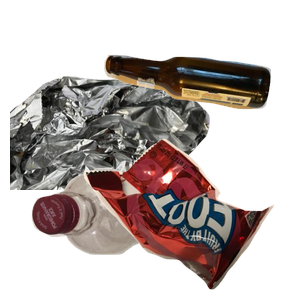glass: (101, 52, 300, 154)
metal: (10, 73, 212, 253)
plastic: (29, 166, 183, 300)
trash: (81, 136, 300, 300)
